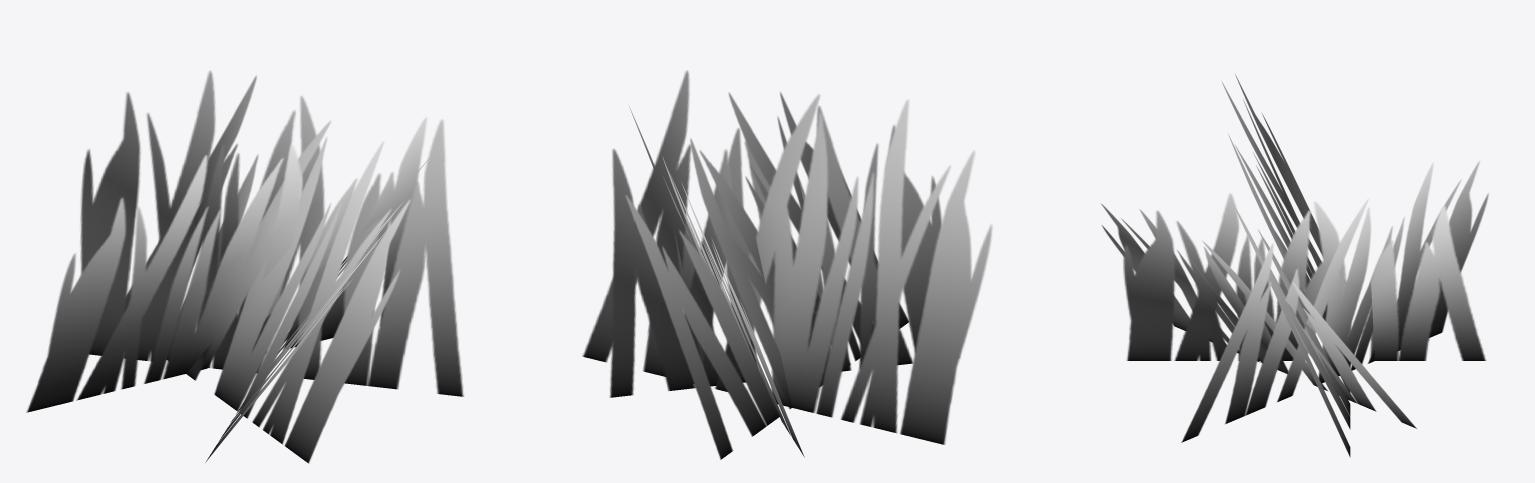
File: grass_high_1_v2.glb
3 renders of one model, left to right at view 1: azimuth 30°, elevation 25°; view 2: azimuth 150°, elevation 25°; view 3: azimuth 270°, elevation 25°, orthographic. The views are drawn at different scales.
Parts seen in each view (by area): view 1: mesh_grass_high_01; view 2: mesh_grass_high_01; view 3: mesh_grass_high_01.
Boxes of the visible parts, bbox=[...] form: mesh_grass_high_01: bbox=[26, 70, 463, 463]; mesh_grass_high_01: bbox=[582, 70, 992, 459]; mesh_grass_high_01: bbox=[1101, 74, 1488, 457].
Size of the model in its own units: 0.7537 by 0.4825 by 0.7494.
Materials: 1 (1 with a texture image).
